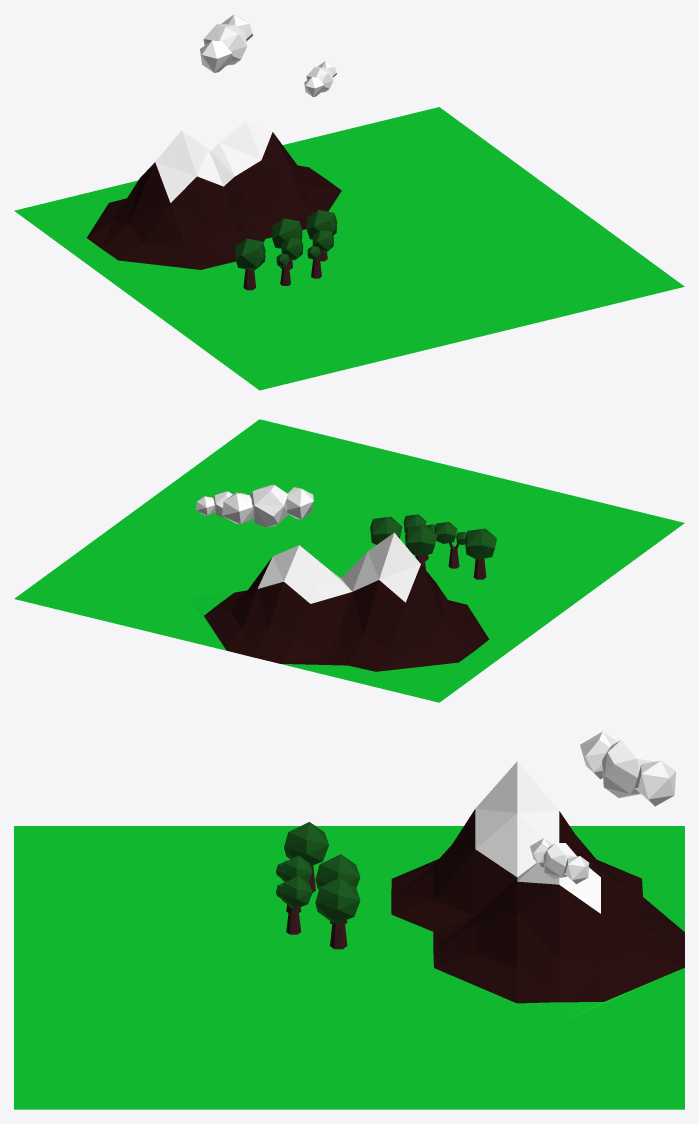
3 views of the same model, one above another, from view 1: azimuth 30°, elevation 25°; view 2: azimuth 150°, elevation 25°; view 3: azimuth 270°, elevation 25° (orthographic). The views are drawn at different scales.
Visible parts, largest first — view 1: Plane, Icosphere.001_Icosphere.002, Icosphere, Cylinder, Icosphere.002_Icosphere.003, Cylinder.002_Cylinder.003, Cylinder.001_Cylinder.002; view 2: Plane, Icosphere.001_Icosphere.002, Icosphere, Cylinder, Cylinder.001_Cylinder.002, Cylinder.002_Cylinder.003, Icosphere.002_Icosphere.003; view 3: Plane, Icosphere.001_Icosphere.002, Cylinder.002_Cylinder.003, Icosphere, Icosphere.002_Icosphere.003, Cylinder, Cylinder.001_Cylinder.002.
Part boxes in pixels (left/top/right/bottom): Plane: left=14, top=107, right=684, bottom=390; Icosphere.001_Icosphere.002: left=200, top=14, right=252, bottom=72; Icosphere: left=276, top=230, right=333, bottom=285; Cylinder: left=235, top=238, right=265, bottom=290; Icosphere.002_Icosphere.003: left=304, top=61, right=336, bottom=97; Cylinder.002_Cylinder.003: left=307, top=210, right=337, bottom=261; Cylinder.001_Cylinder.002: left=272, top=218, right=302, bottom=269; Plane: left=14, top=419, right=684, bottom=702; Icosphere.001_Icosphere.002: left=222, top=484, right=313, bottom=527; Icosphere: left=403, top=514, right=466, bottom=568; Cylinder: left=465, top=528, right=496, bottom=579; Cylinder.001_Cylinder.002: left=405, top=525, right=436, bottom=569; Cylinder.002_Cylinder.003: left=370, top=516, right=402, bottom=544; Icosphere.002_Icosphere.003: left=196, top=491, right=246, bottom=517; Plane: left=14, top=761, right=684, bottom=1109; Icosphere.001_Icosphere.002: left=580, top=731, right=675, bottom=806; Cylinder.002_Cylinder.003: left=315, top=877, right=360, bottom=949; Icosphere: left=276, top=855, right=312, bottom=934; Icosphere.002_Icosphere.003: left=530, top=838, right=589, bottom=884; Cylinder: left=284, top=822, right=328, bottom=892; Cylinder.001_Cylinder.002: left=315, top=854, right=360, bottom=924.
Bounding box in the file's own units: 14.03 × 4.88 × 14.04.
